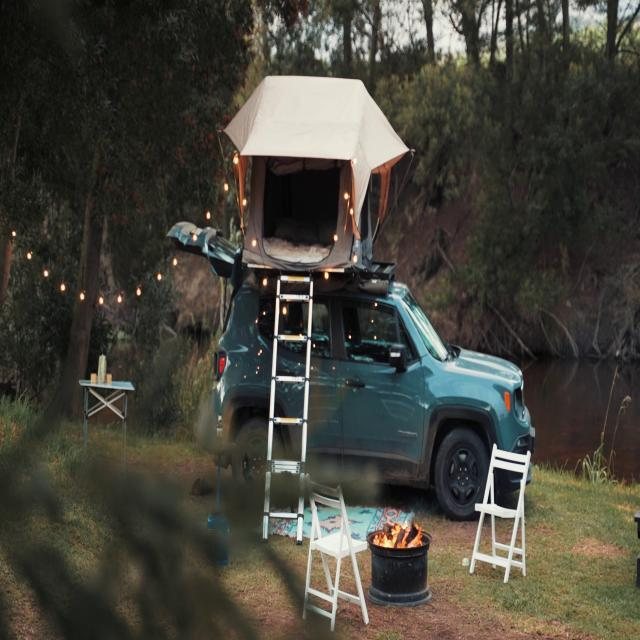Fire: (377, 506, 419, 552)
